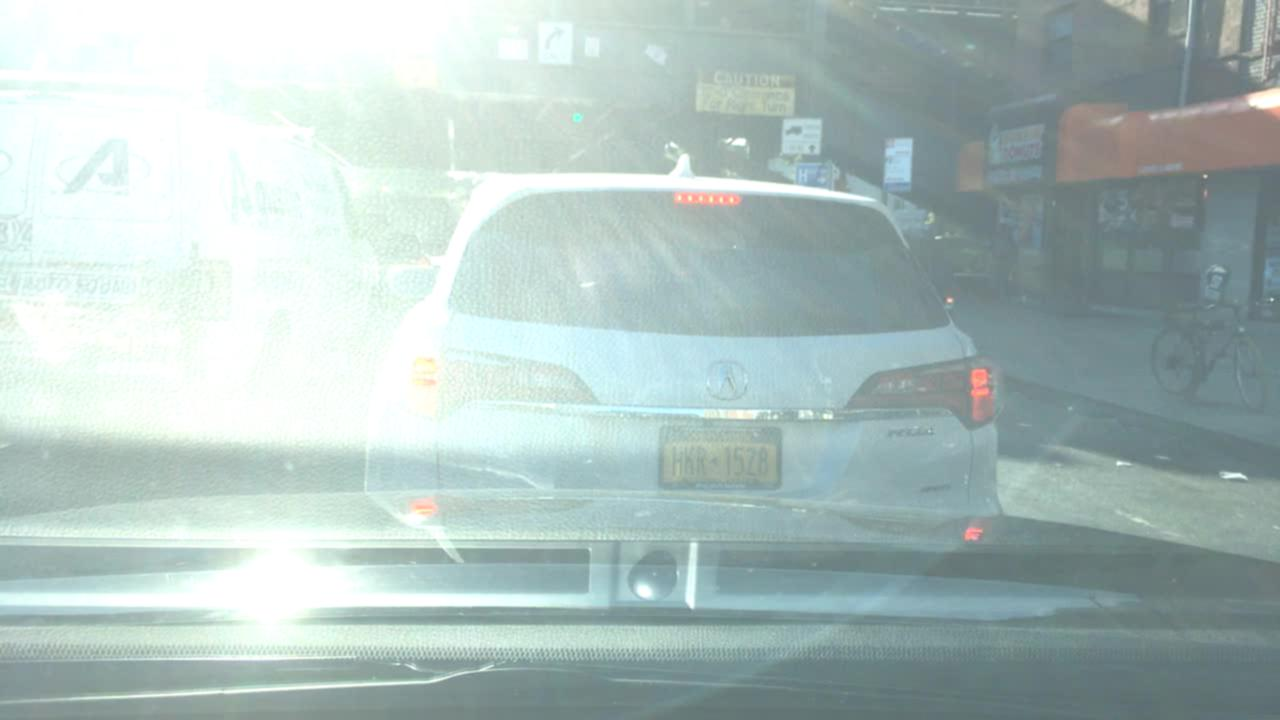acura: (696, 347, 766, 407)
